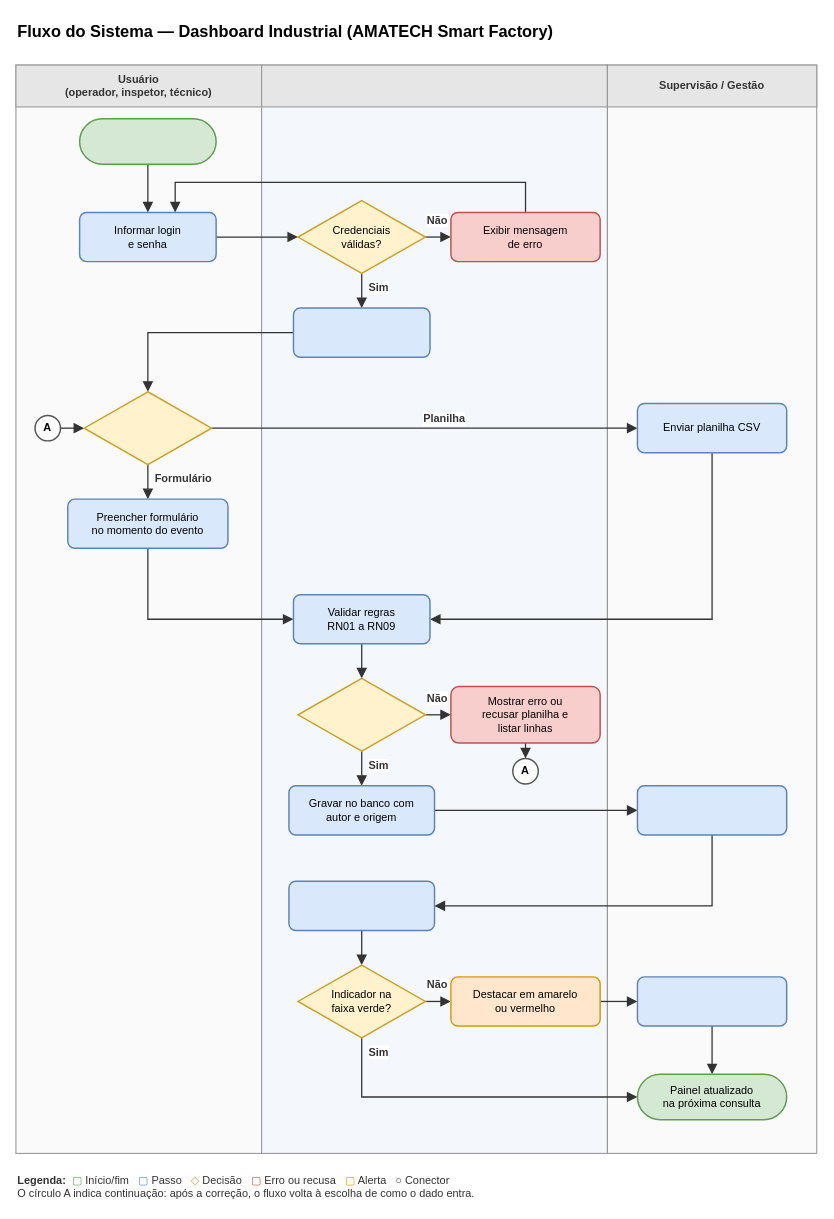
Image size: 834x1219. Some labels were removed from this diagram. Here are the shapes that lost their labels. From the top down, the centre of each, then its label:
the point at 434,85: Sistema
the point at 147,141: Usuário acessa o sistema
the point at 361,332: Carregar menu do perfil
the point at 147,428: Como o dado entra?
the point at 361,714: Dados válidos?
the point at 711,810: Abrir o painel
the point at 361,905: Calcular indicadores e aplicar semáforo
the point at 711,1001: Tomar ação corretiva durante o turno
